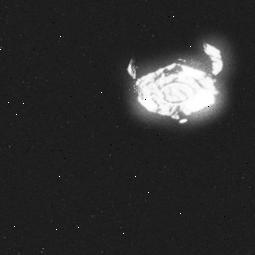lisa_pathfinder: (115, 34, 234, 127)
